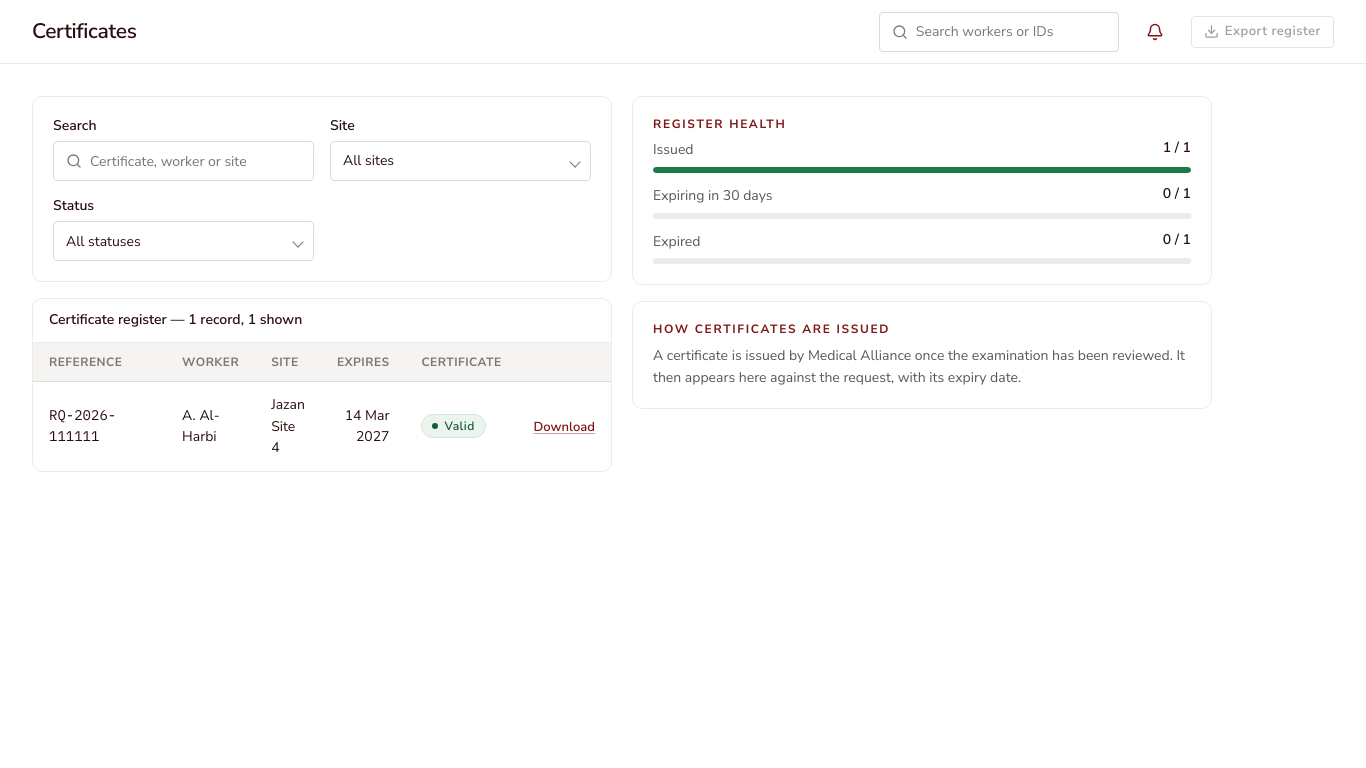
CertificatesScreen › shows the no-match empty state when filters exclude everything
The width and height of the screenshot is (1366, 768).
Expected: the text "A. Al-Harbi" is shown, [166,382,255,471]
Type "no-such-worker" into the field labelled "Search".
click(196, 161); type("no-such-worker")  # box [90,152,301,171]
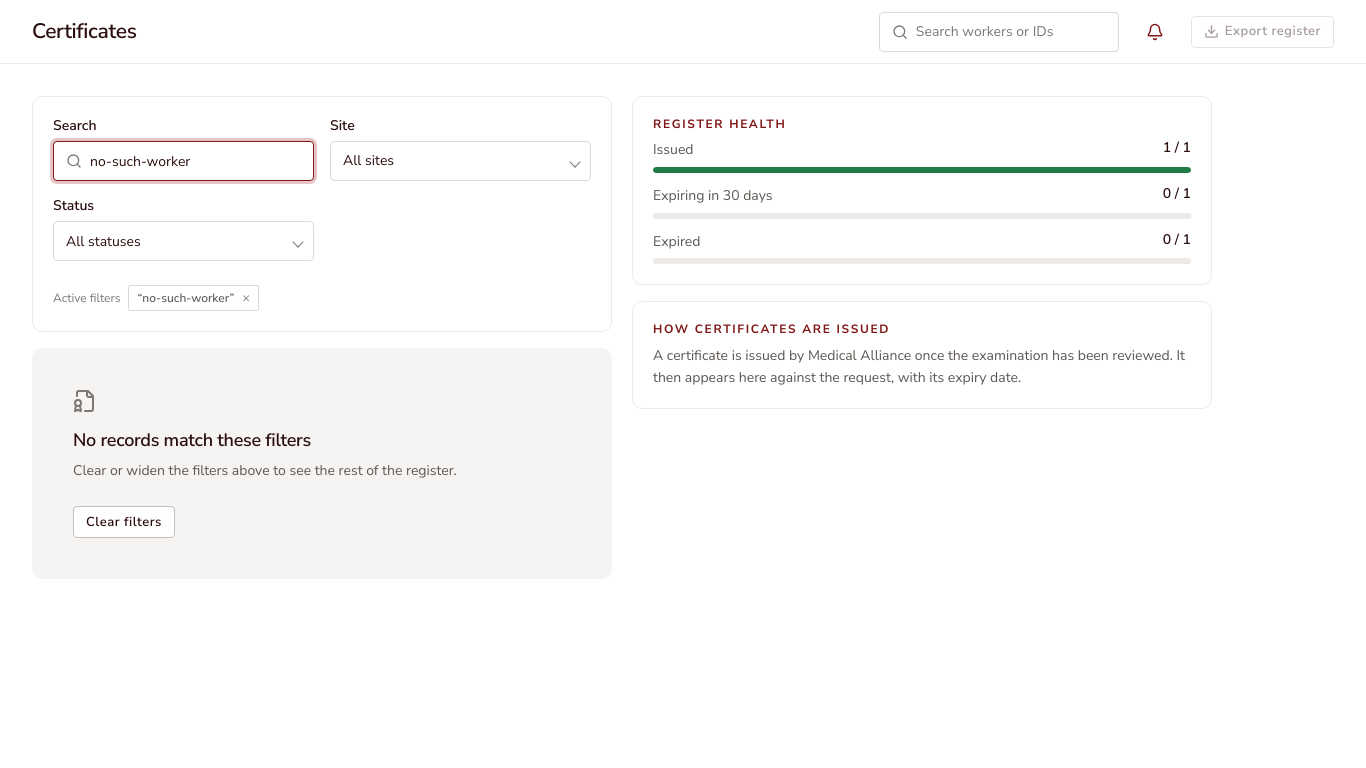
Expected: the heading "No records match these filters" is shown, [73,428,311,452]
Expected: the button "Clear filters" is shown, [73,506,175,538]
